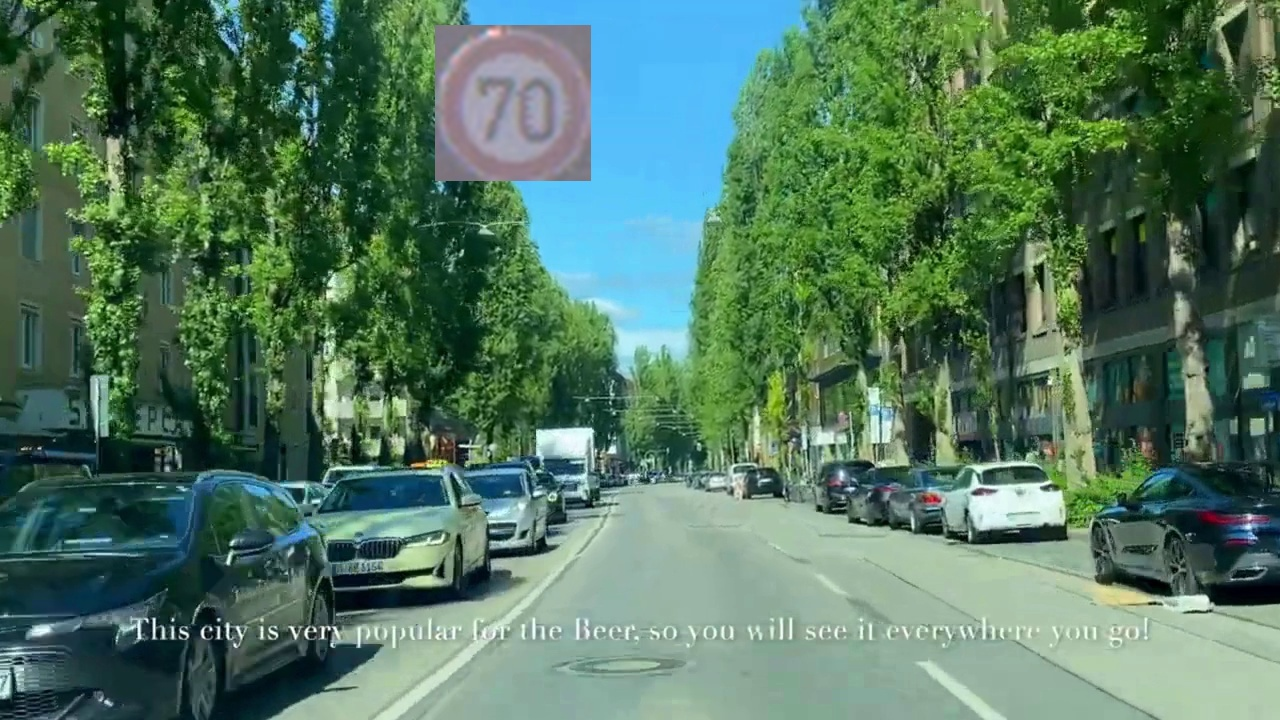Speed 70: (435, 25, 591, 181)
